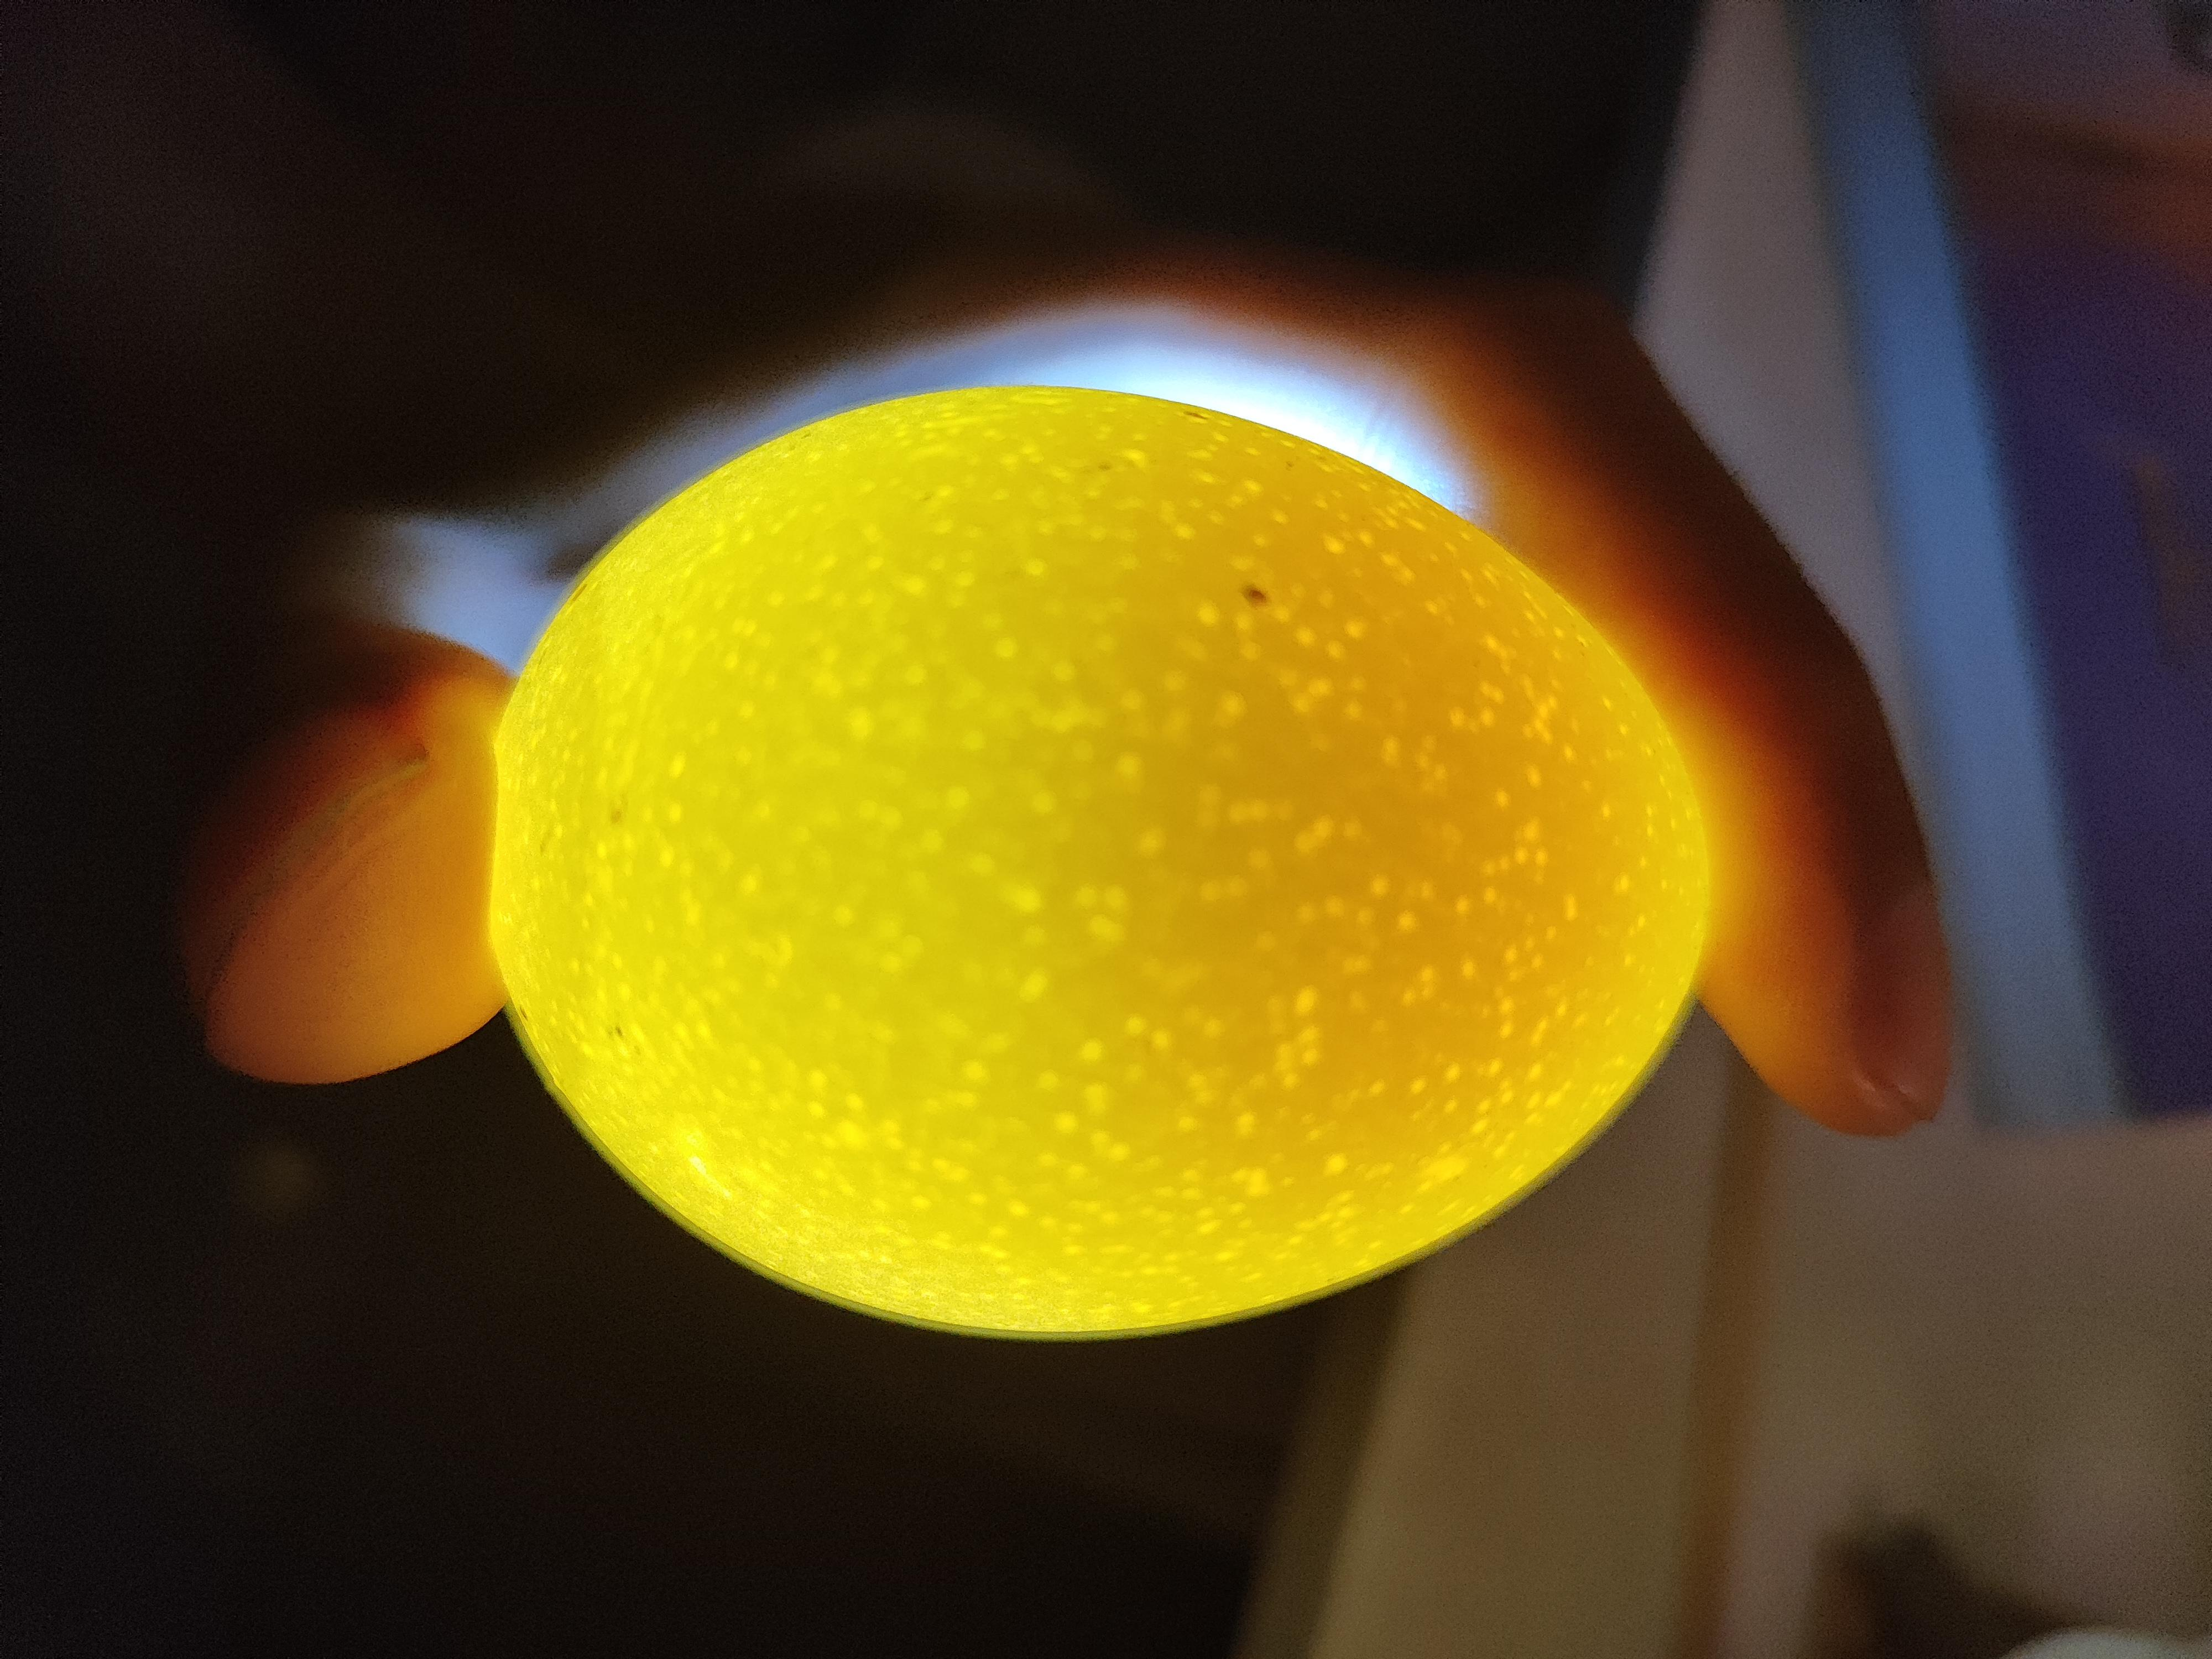A - Good: (493, 376, 1719, 1347)
